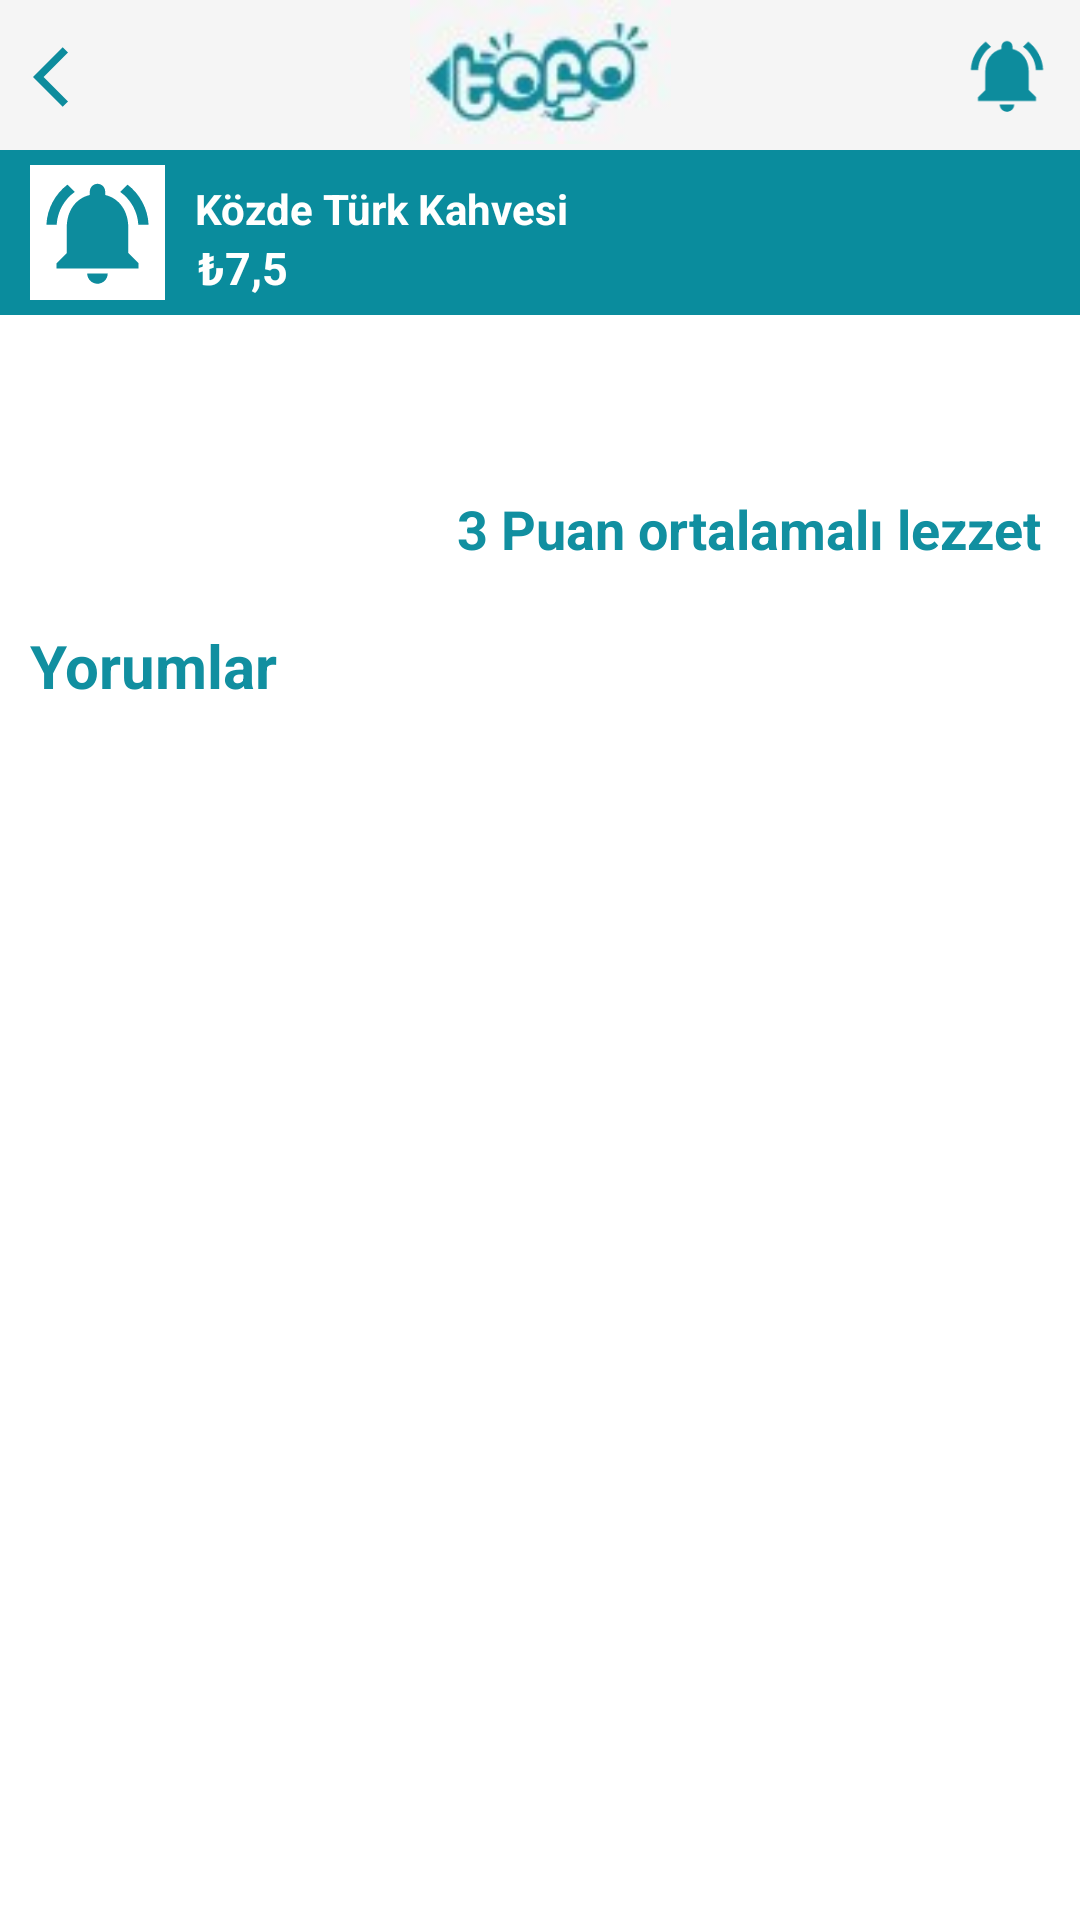

Point at icon controls on the screen. Image size 1080 × 1920, points as (x=x, y=y).
anasayfa bildirim: (x=1007, y=76), (x=97, y=232)
bildirimler geri: (x=50, y=77)
